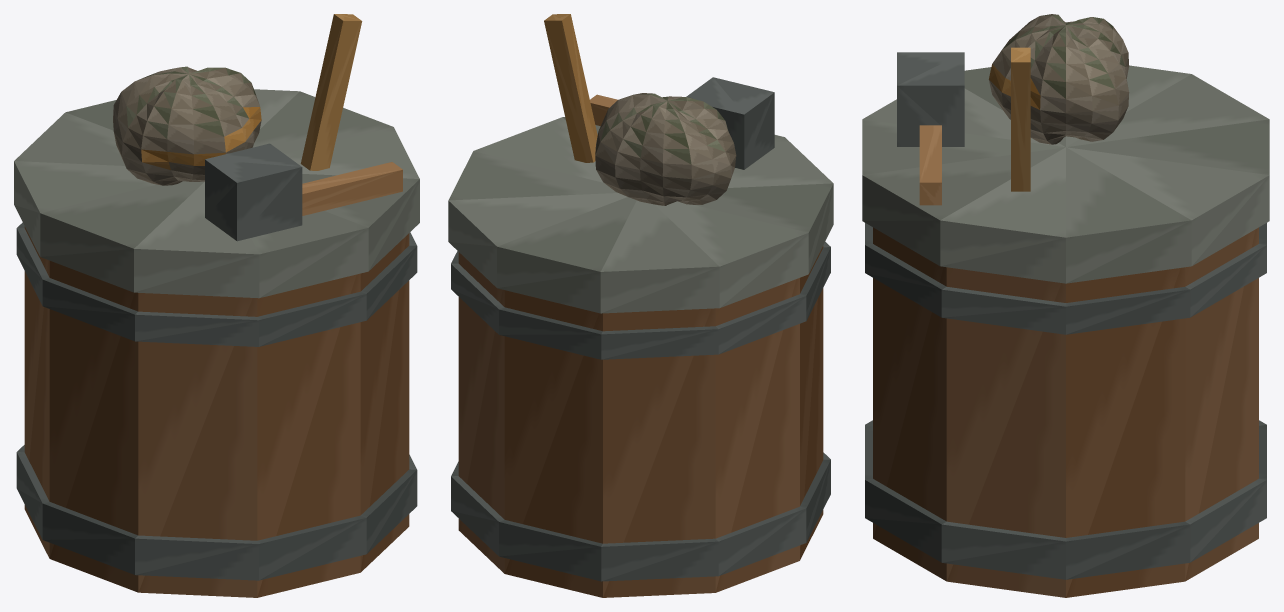
Rendered from fracturing-block.obj.
The picture shows the model from 3 angles, left to right: view 1: azimuth 30°, elevation 25°; view 2: azimuth 150°, elevation 25°; view 3: azimuth 270°, elevation 25°; orthographic projection. The views are drawn at different scales.
Bounding box in the file's own units: 0.76 × 1.01 × 0.7228.
1 material, 1 textured.
